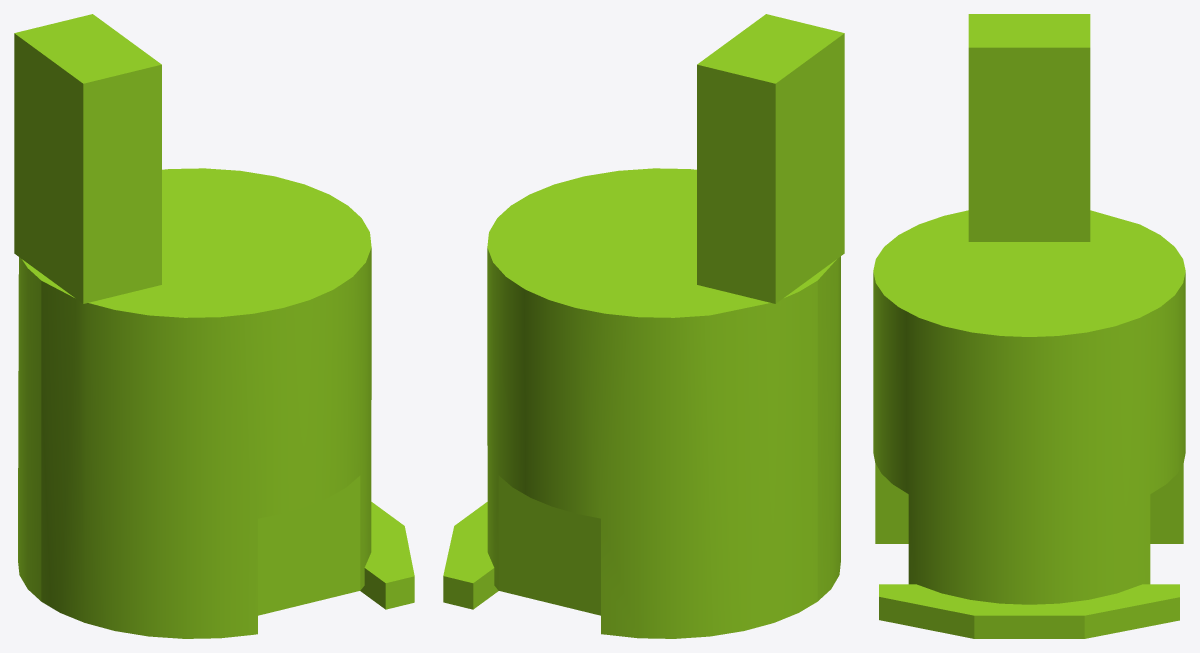
Rendered from tango_collision.dae.
3 renders of one model, left to right at view 1: azimuth 30°, elevation 25°; view 2: azimuth 150°, elevation 25°; view 3: azimuth 270°, elevation 25°, orthographic. The views are drawn at different scales.
Parts seen in each view (by area): view 1: acc64a1e-7d9f-4587-b391-3da5cffd5812; view 2: acc64a1e-7d9f-4587-b391-3da5cffd5812; view 3: acc64a1e-7d9f-4587-b391-3da5cffd5812.
Boxes of the visible parts, bbox=[...] form: acc64a1e-7d9f-4587-b391-3da5cffd5812: bbox=[14, 14, 414, 638]; acc64a1e-7d9f-4587-b391-3da5cffd5812: bbox=[443, 14, 844, 638]; acc64a1e-7d9f-4587-b391-3da5cffd5812: bbox=[873, 14, 1185, 638].
Size of the model in its own units: 0.355 by 0.328 by 0.562.
